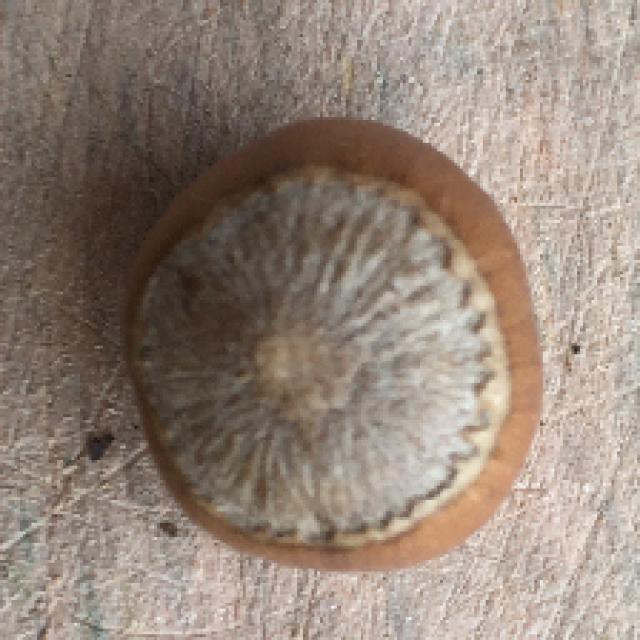DamagedHazelnut: (119, 114, 543, 569)
